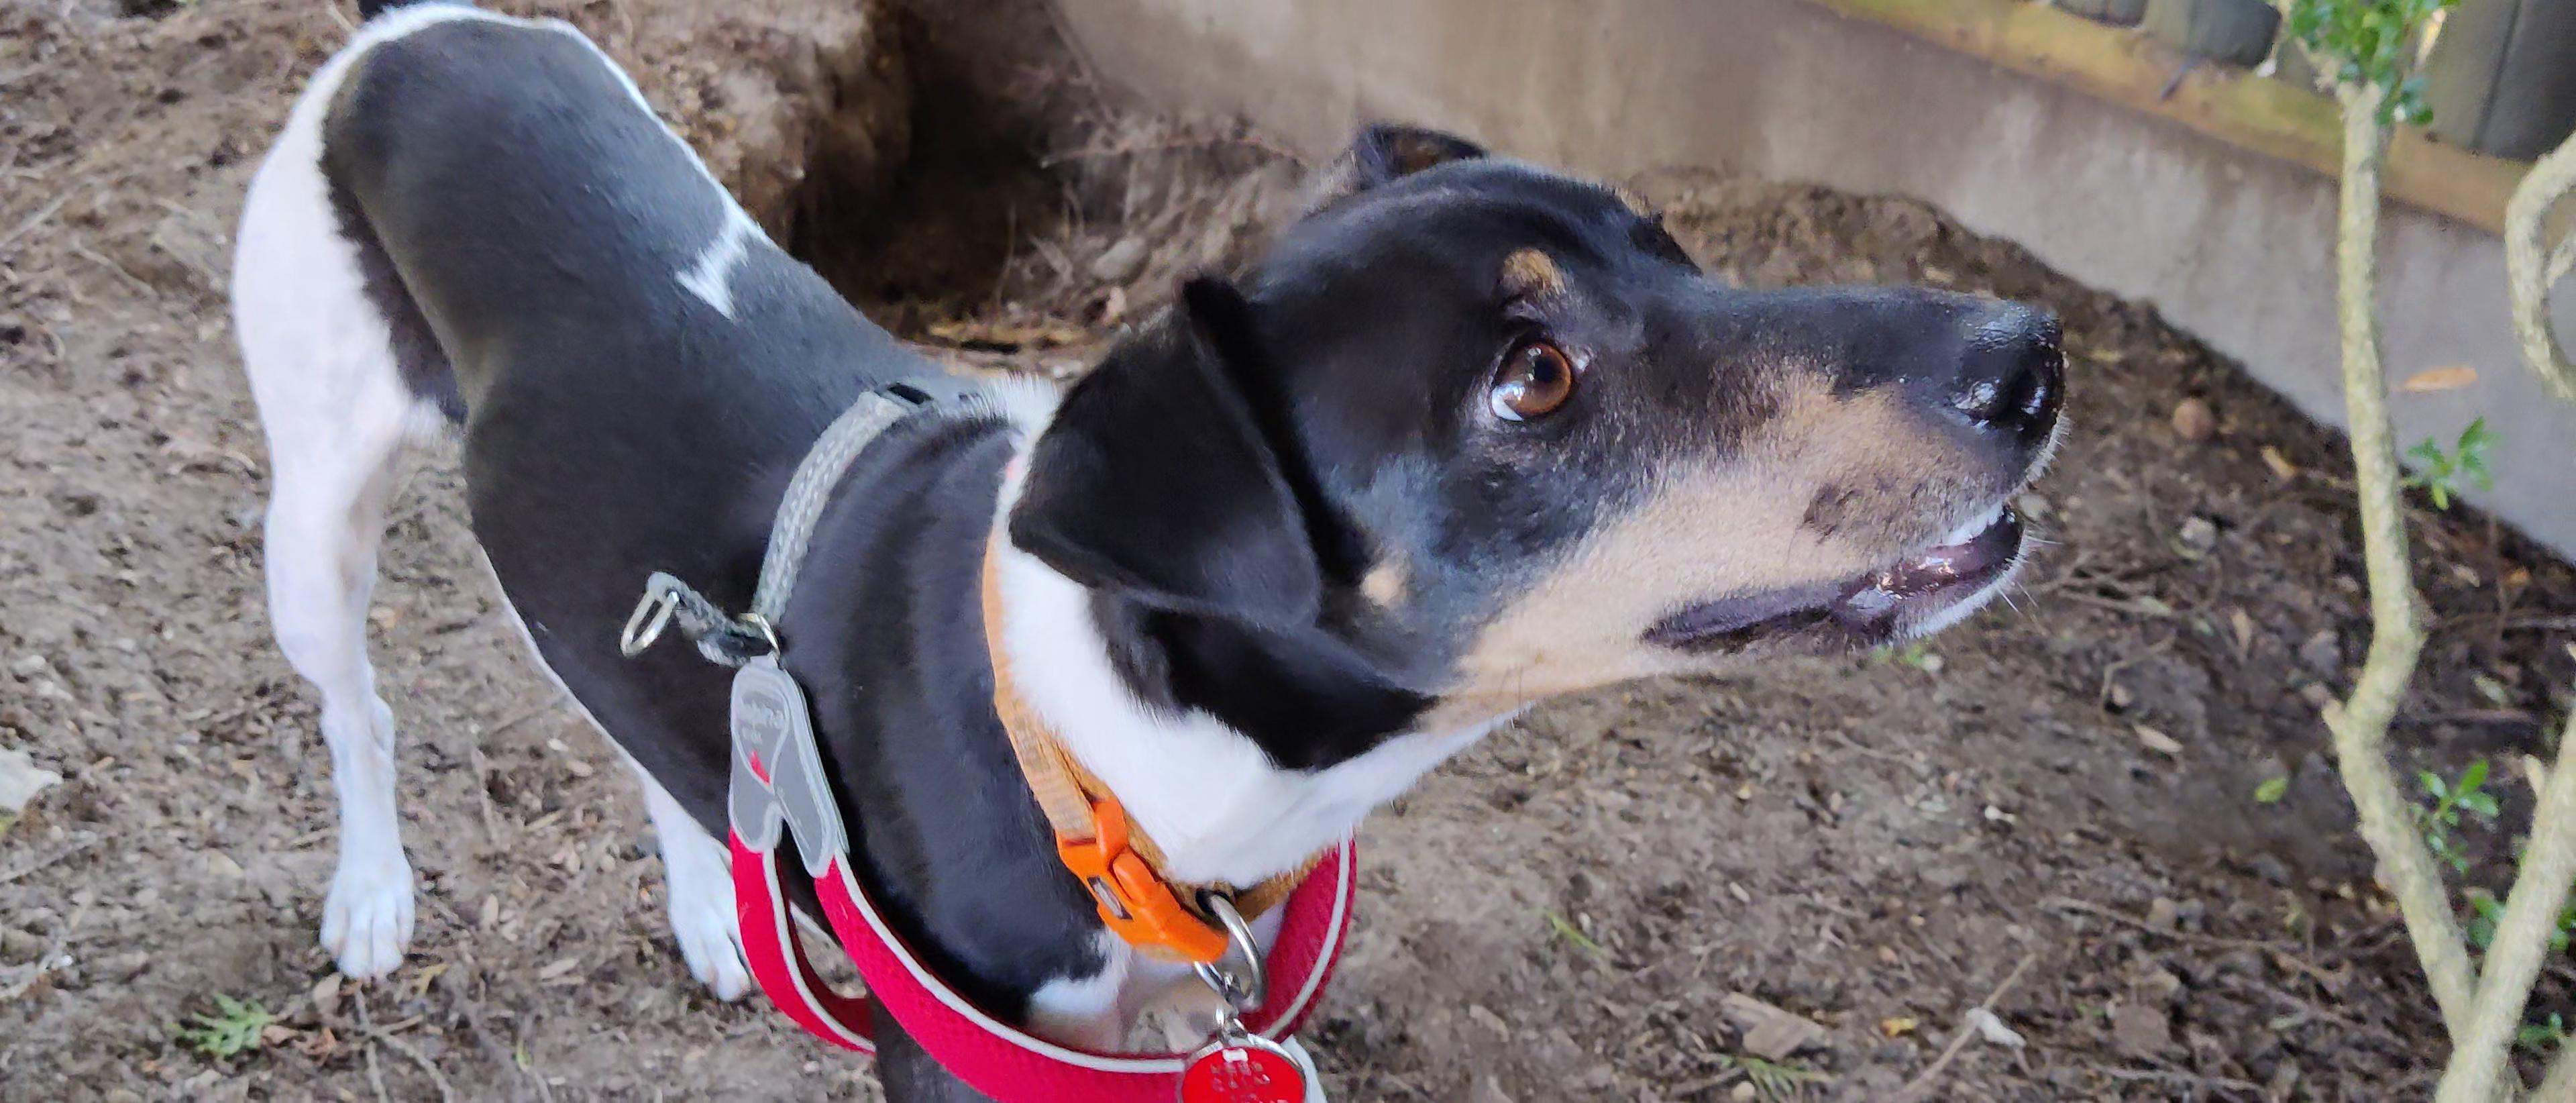Dog: (184, 0, 2098, 1103)
